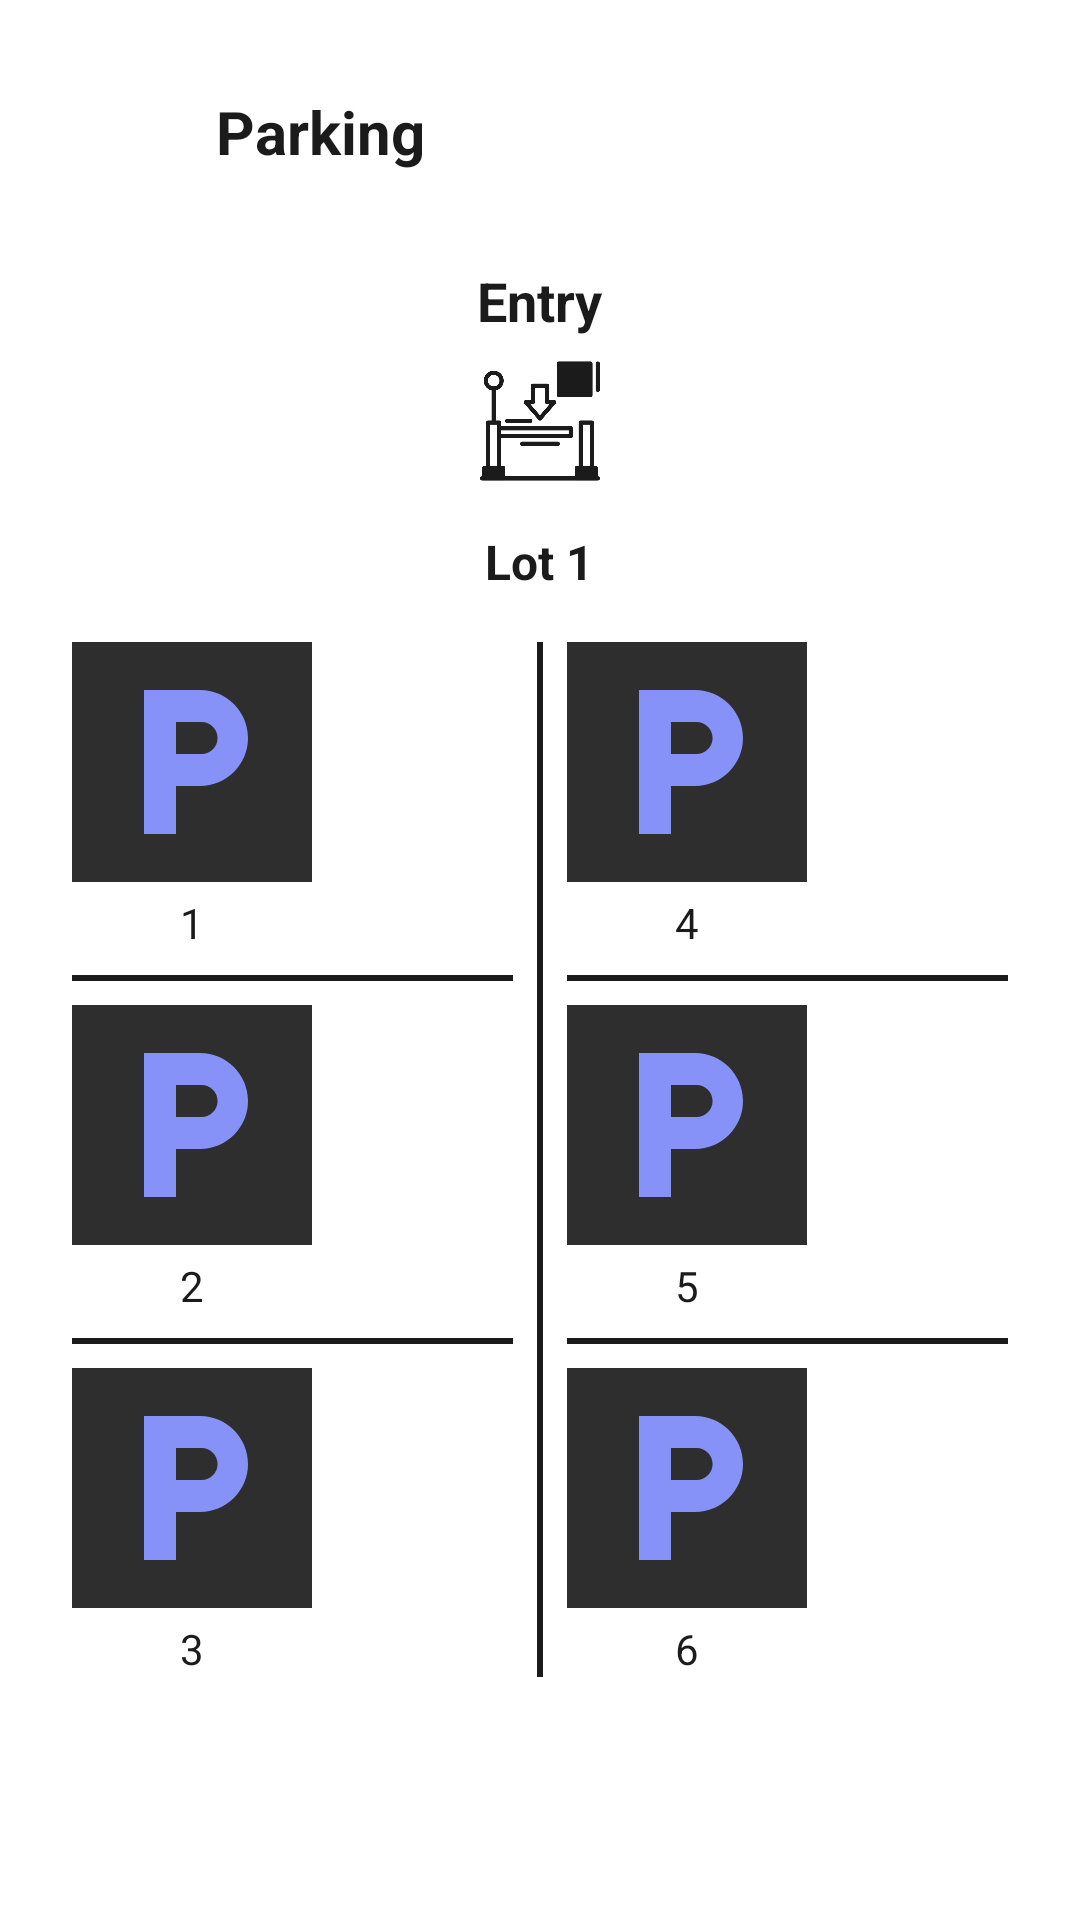

Icons on this 1080×1920 Android screen, each with its box as BBox(x1, y1, x2, y2):
parking: BBox(72, 642, 312, 882), BBox(567, 642, 807, 882), BBox(72, 1005, 312, 1245), BBox(567, 1005, 807, 1245), BBox(72, 1368, 312, 1608), BBox(567, 1368, 807, 1608)
